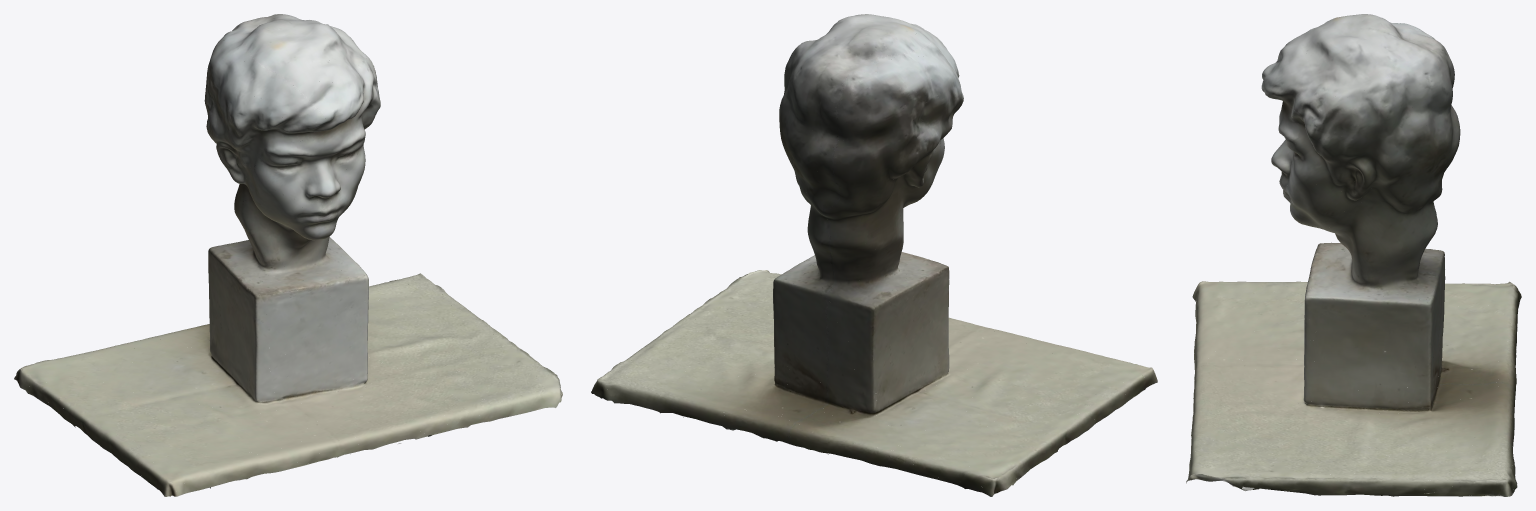
File: 石膏头像_男中青年01_opt.glb
The picture shows the model from 3 angles, left to right: view 1: azimuth 30°, elevation 25°; view 2: azimuth 150°, elevation 25°; view 3: azimuth 270°, elevation 25°; orthographic projection.
Visible parts, largest first — view 1: surfaceShader1SG, surfaceShader1SG_1; view 2: surfaceShader1SG, surfaceShader1SG_1; view 3: surfaceShader1SG, surfaceShader1SG_1.
Part boxes in pixels (<box>): surfaceShader1SG: <box>14,14,562,496</box>; surfaceShader1SG_1: <box>16,24,560,493</box>; surfaceShader1SG: <box>591,14,1157,496</box>; surfaceShader1SG_1: <box>595,17,1150,492</box>; surfaceShader1SG: <box>1186,14,1521,496</box>; surfaceShader1SG_1: <box>1191,17,1520,495</box>.
Size of the model in its own units: 0.3554 by 0.3 by 0.246.
1 material, 1 textured.
